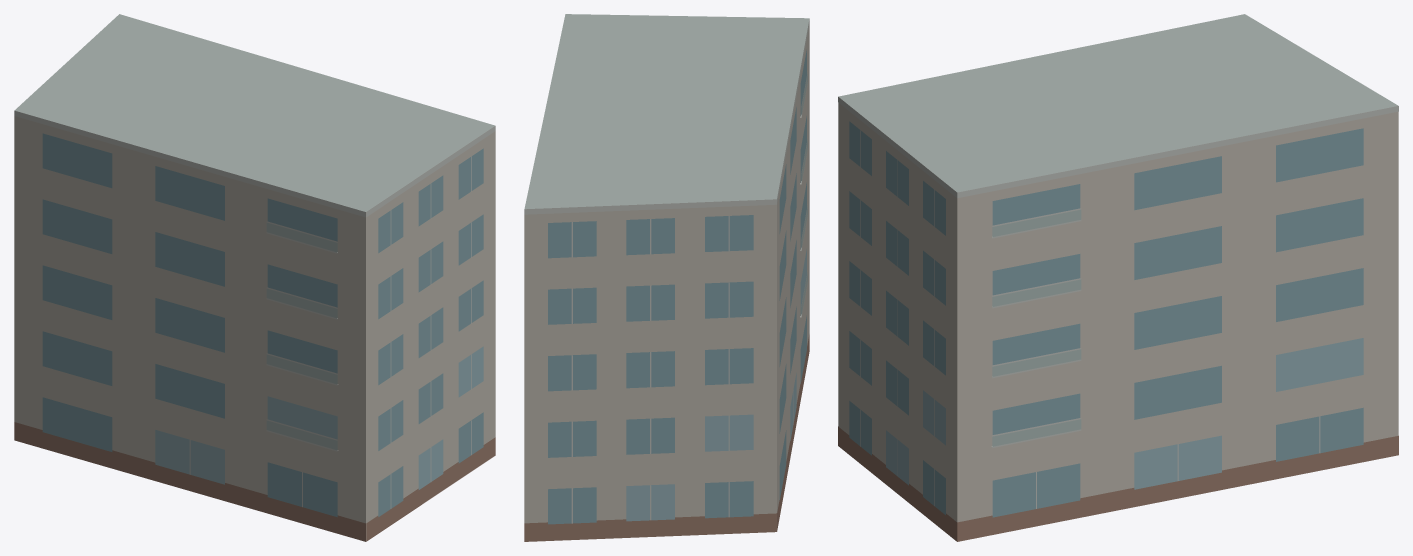
Rendered from survey-upis-33009522.glb.
The picture shows the model from 3 angles, left to right: view 1: azimuth 30°, elevation 25°; view 2: azimuth 150°, elevation 25°; view 3: azimuth 270°, elevation 25°; orthographic projection. The views are drawn at different scales.
Parts seen in each view (by area): view 1: survey-upis-33009522.tmp; view 2: survey-upis-33009522.tmp; view 3: survey-upis-33009522.tmp.
Boxes of the visible parts, <box> form: survey-upis-33009522.tmp: <box>14,14,495,541</box>; survey-upis-33009522.tmp: <box>524,14,809,541</box>; survey-upis-33009522.tmp: <box>838,14,1398,541</box>.
Size of the model in its own units: 16.4 by 14.95 by 21.76.
